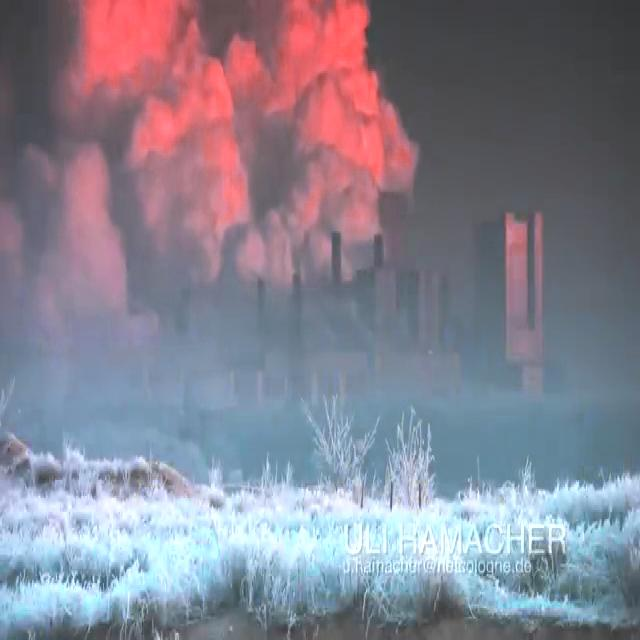smoke: (27, 0, 422, 260)
